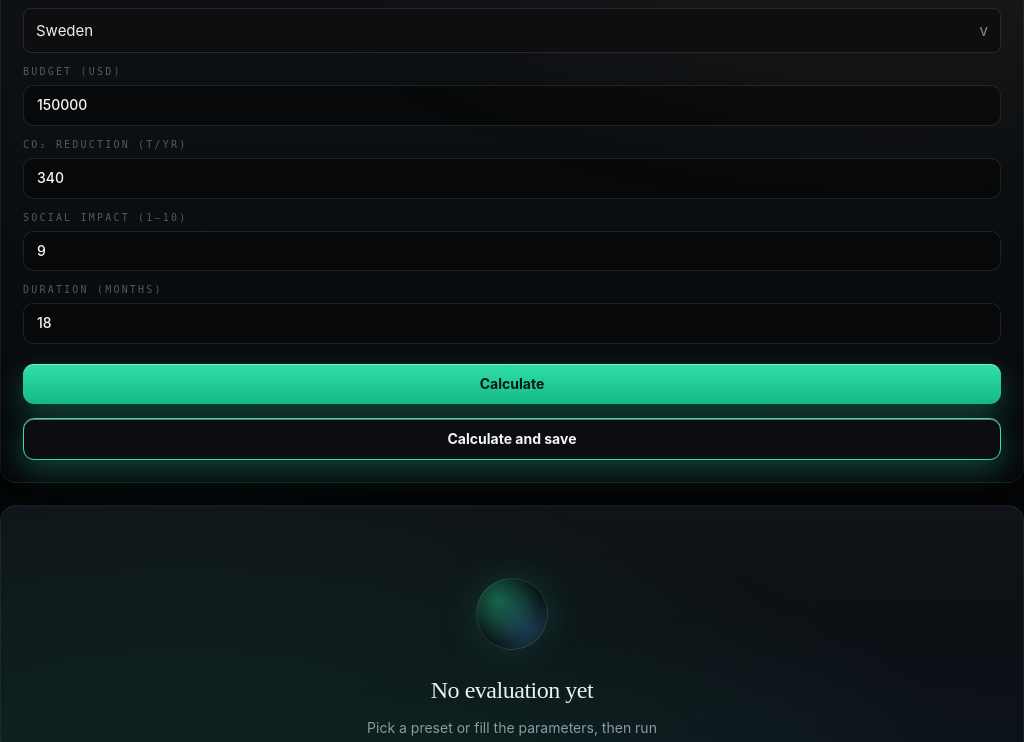
Calculate computes and saves nothing › sends POST /evaluate without save=true, even for a role that can save
(page scrolled)
Step 1. Click the button "Calculate" → [512, 384], box [23, 364, 1001, 404]
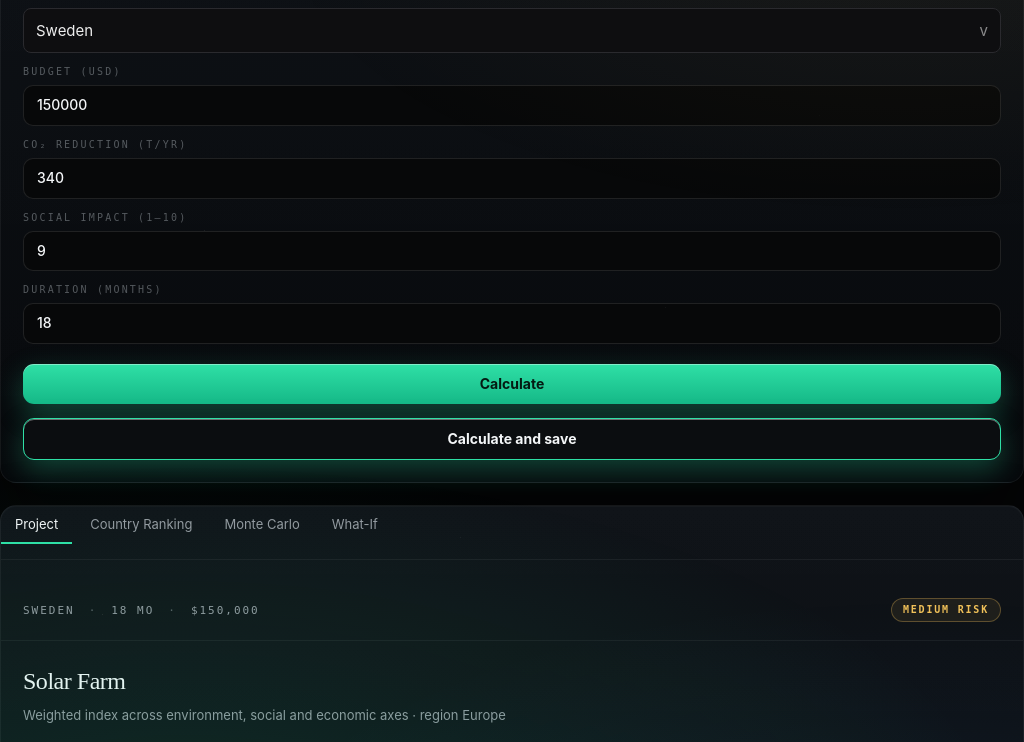
Result: the text "Medium risk" is shown at [891, 598, 1001, 622]
